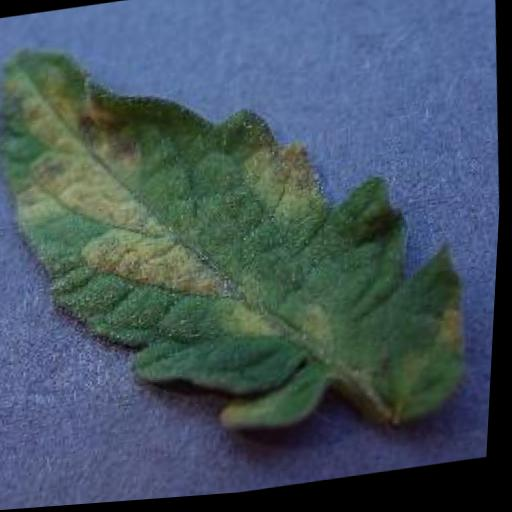Leaf Mold: (0, 0, 490, 489)
